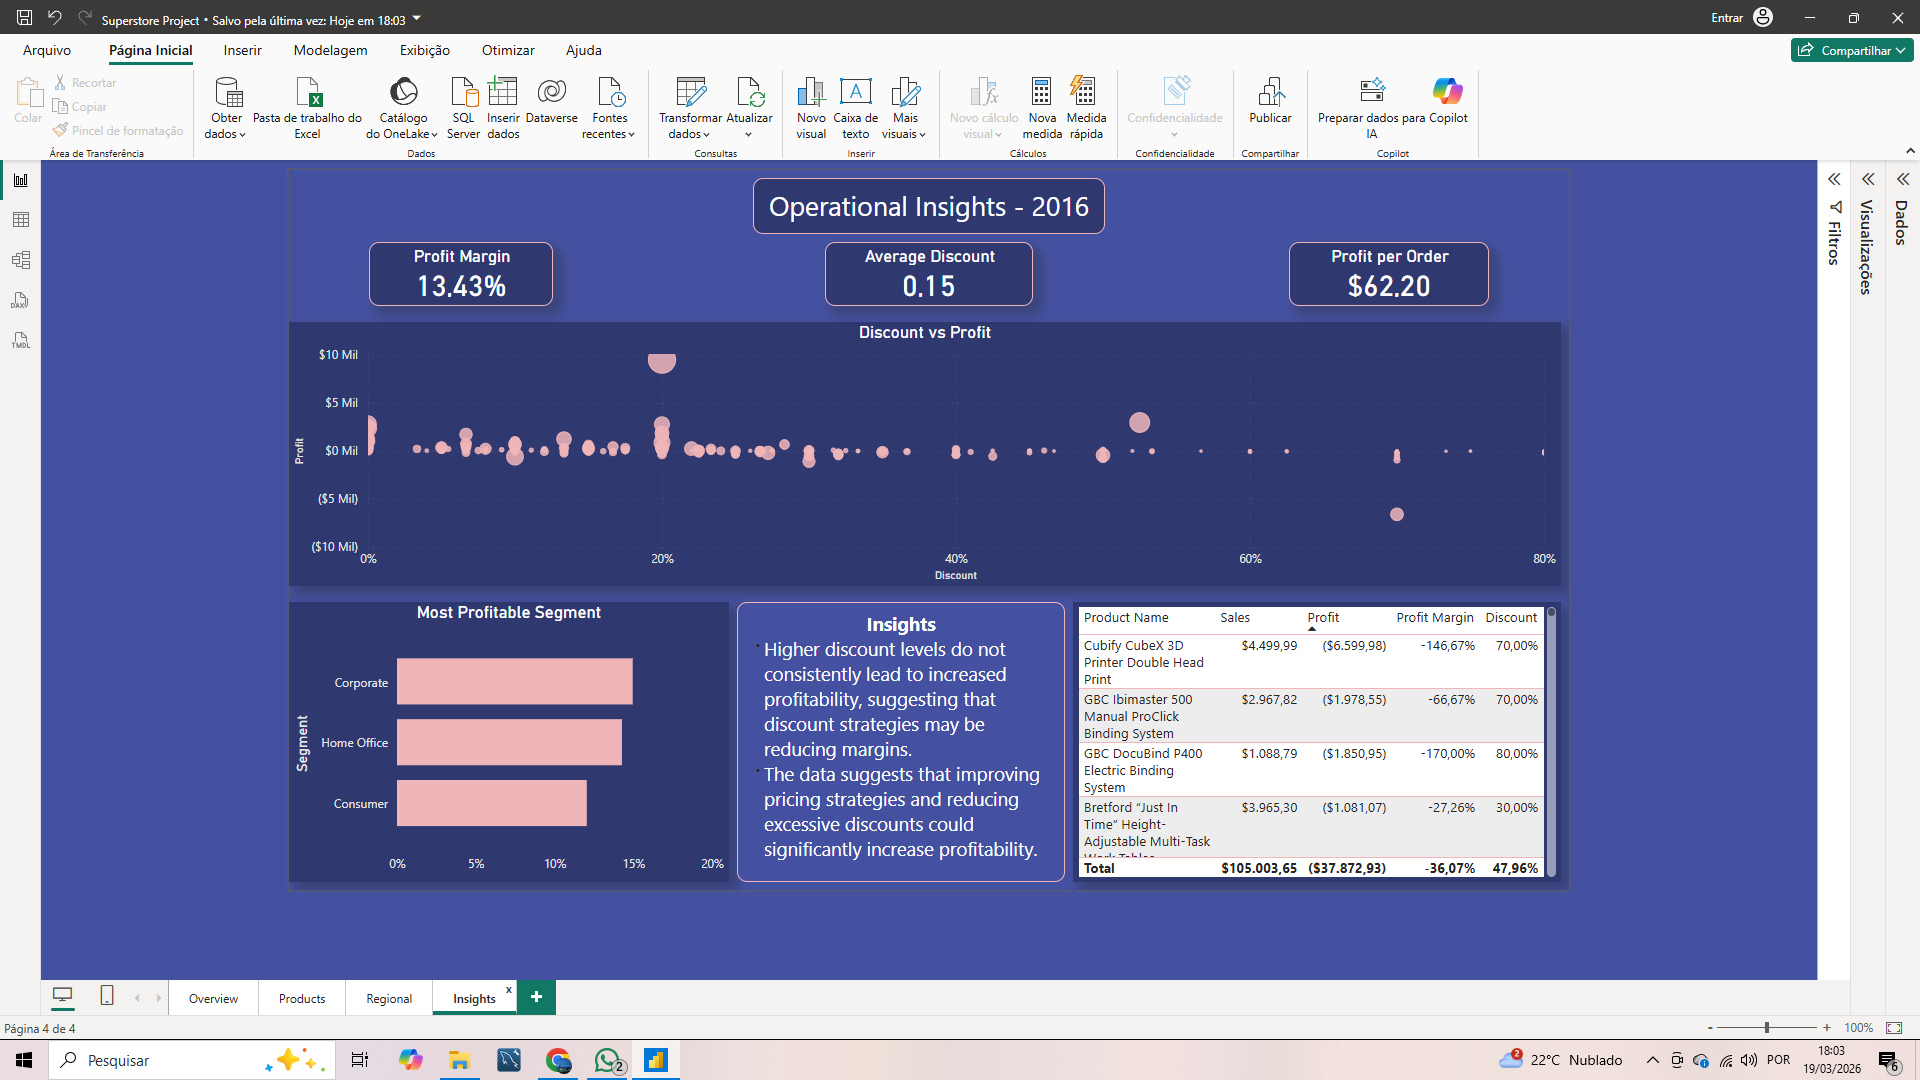

This screenshot's page, from the dashboard's own definition file:
{"tool":"powerbi","page":{"name":"Insights","canvas":[1280,720],"ordinal":3},"visuals":[{"type":"textbox","box":[464,8,352,56],"z":0},{"type":"card","title":"Profit per Order","fields":{"Values":["Sample - Superstore.Profit per Order"]},"box":[1000,72,200,64],"z":1000},{"type":"card","title":"Average Discount","fields":{"Values":["Sample - Superstore.Average Discount"]},"box":[536,71.8,208,64],"z":2000},{"type":"card","title":"Profit Margin","fields":{"Values":["Sample - Superstore.Profit Margin"]},"box":[80,72,184,64],"z":3000},{"type":"scatterChart","title":"Discount vs Profit","fields":{"X":["Avg(Sample - Superstore.Discount)"],"Y":["Sum(Sample - Superstore.Profit)"],"Category":["Sample - Superstore.Product Name"],"Size":["Sum(Sample - Superstore.Sales)"]},"box":[0,152,1272,264],"z":4000},{"type":"clusteredBarChart","title":"Most Profitable Segment","fields":{"Category":["Sample - Superstore.Segment"],"Y":["Sample - Superstore.Profit Margin"]},"box":[0,432,440,280],"z":5000},{"type":"tableEx","fields":{"Values":["Sample - Superstore.Product Name","Sum(Sample - Superstore.Sales)","Sum(Sample - Superstore.Profit)","Sample - Superstore.Profit Margin","Avg(Sample - Superstore.Discount)"]},"box":[784,432,488,280],"z":6000},{"type":"textbox","box":[448,432,328,280],"z":6001}]}

Visuals, with their boxes on the page's 1280x720 design canvas (x1, y1, x2, y2). These are canvas units, not pixel positions in the 1920x1080 screenshot, which may show the page scaled, cropped or inside an application window:
textbox: (x1=464, y1=8, x2=816, y2=64)
"Profit per Order" card: (x1=1000, y1=72, x2=1200, y2=136)
"Average Discount" card: (x1=536, y1=72, x2=744, y2=136)
"Profit Margin" card: (x1=80, y1=72, x2=264, y2=136)
"Discount vs Profit" scatterChart: (x1=0, y1=152, x2=1272, y2=416)
"Most Profitable Segment" clusteredBarChart: (x1=0, y1=432, x2=440, y2=712)
tableEx - Sample - Superstore.Product Name x Sum(Sample - Superstore.Sales): (x1=784, y1=432, x2=1272, y2=712)
textbox: (x1=448, y1=432, x2=776, y2=712)
